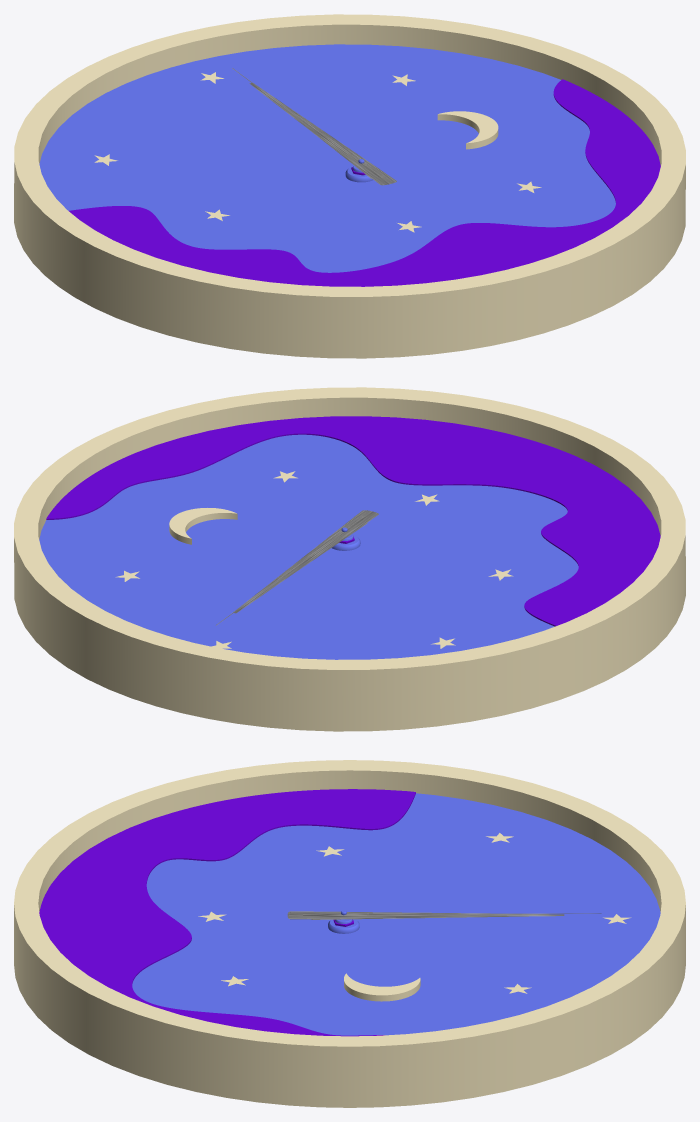
File: Clock2.glb
The picture shows the model from 3 angles, top to bottom: view 1: azimuth 30°, elevation 25°; view 2: azimuth 150°, elevation 25°; view 3: azimuth 270°, elevation 25°; orthographic projection.
Parts seen in each view (by area): view 1: WallClock_3d_model, Minutes; view 2: WallClock_3d_model, Minutes; view 3: WallClock_3d_model, Minutes, Seconds.
Part boxes in pixels (x1=…): WallClock_3d_model: x1=14, y1=14, x2=685, y2=358; Minutes: x1=249, y1=83, x2=396, y2=185; WallClock_3d_model: x1=14, y1=387, x2=685, y2=731; Minutes: x1=233, y1=510, x2=378, y2=613; WallClock_3d_model: x1=14, y1=760, x2=685, y2=1107; Minutes: x1=287, y1=911, x2=564, y2=919; Seconds: x1=303, y1=913, x2=601, y2=915.
Size of the model in its own units: 49.66 by 5.22 by 49.64.
Materials: 4 (1 with a texture image).
